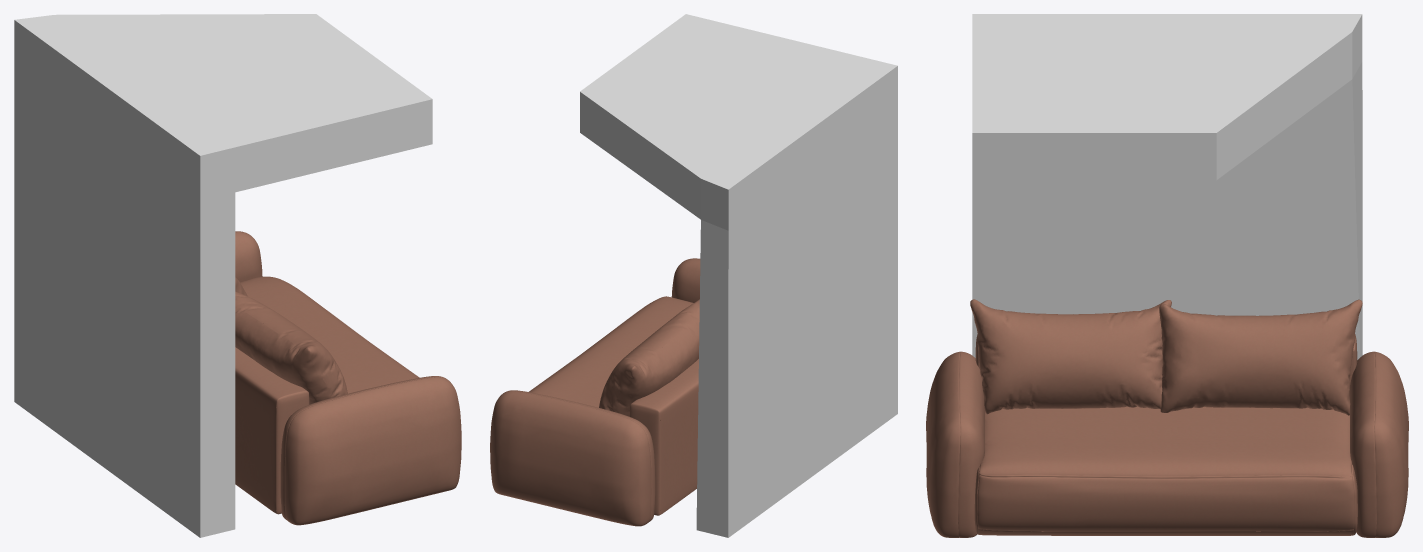
File: shadow2b.glb
3 views of the same model, side by side, from view 1: azimuth 30°, elevation 25°; view 2: azimuth 150°, elevation 25°; view 3: azimuth 270°, elevation 25° (orthographic). The views are drawn at different scales.
Visible parts, largest first — view 1: Cube, lamiasofaamalfi3s.002; view 2: Cube, lamiasofaamalfi3s.002; view 3: Cube, lamiasofaamalfi3s.002.
Boxes of the visible parts, x1=… form: Cube: x1=14, y1=14, x2=432, y2=537; lamiasofaamalfi3s.002: x1=235, y1=231, x2=461, y2=525; Cube: x1=580, y1=14, x2=897, y2=537; lamiasofaamalfi3s.002: x1=490, y1=258, x2=700, y2=526; Cube: x1=972, y1=14, x2=1362, y2=359; lamiasofaamalfi3s.002: x1=926, y1=299, x2=1408, y2=537.
Size of the model in its own units: 1.65 by 2.27 by 2.48.
Materials: 1 (1 with a texture image).
